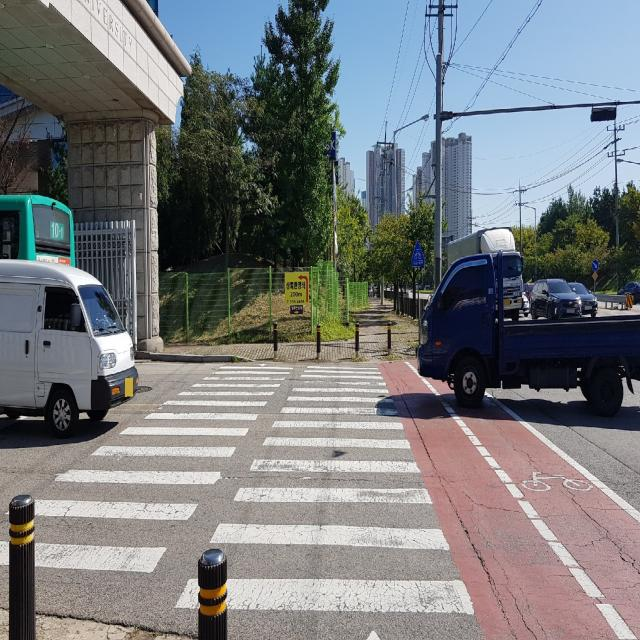횡단보도: (0, 359, 476, 639)
